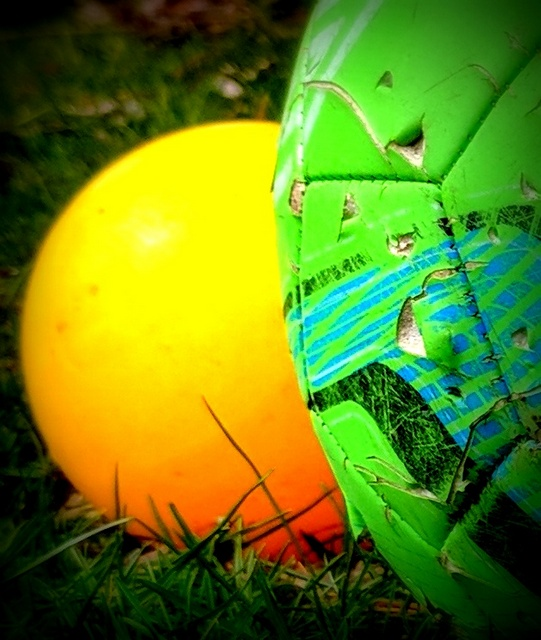ball: (18, 117, 391, 574)
